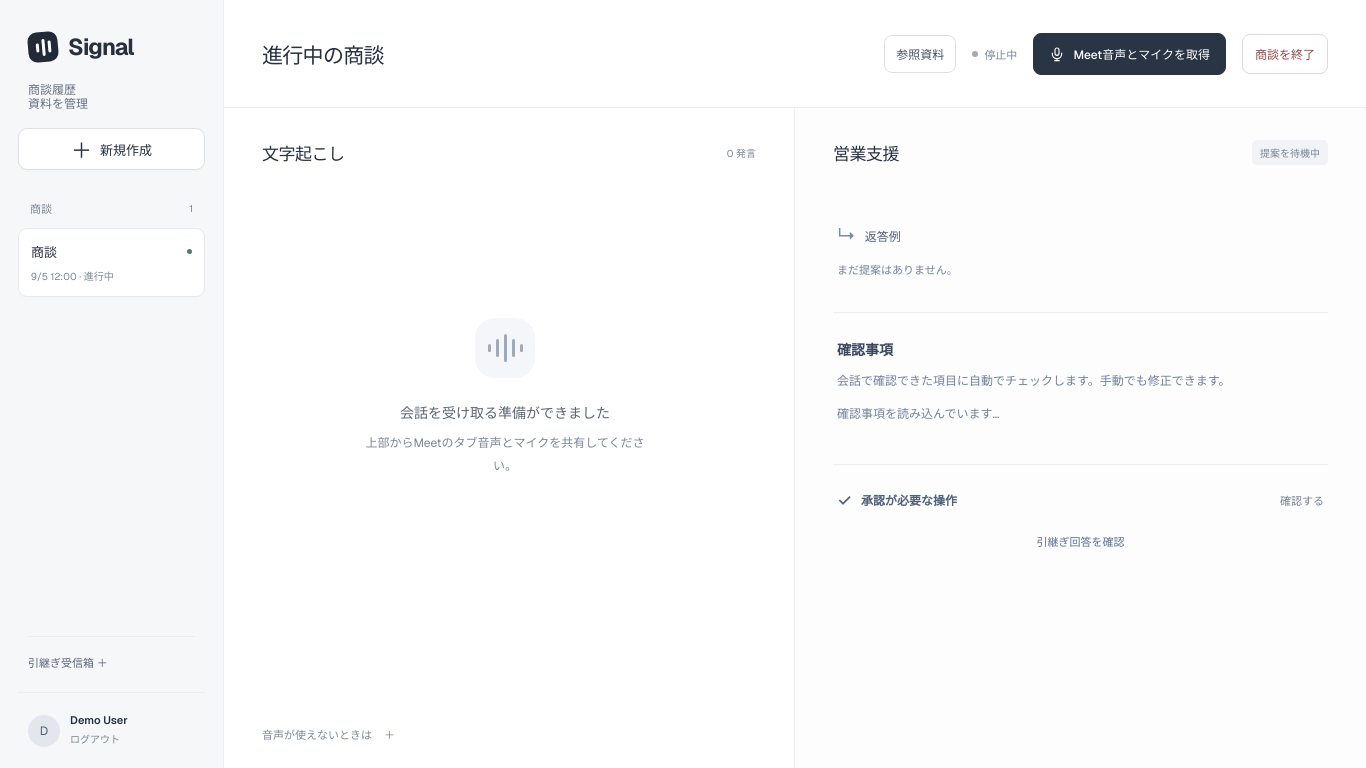
Test: authentication page › refreshes the transcript after adding a customer message
The width and height of the screenshot is (1366, 768).
Check: the heading "会話を受け取る準備ができました" is shown, box [400,402,610,422]
Click the button "音声が使えないときは ＋": click(328, 734) [262,720,395,748]
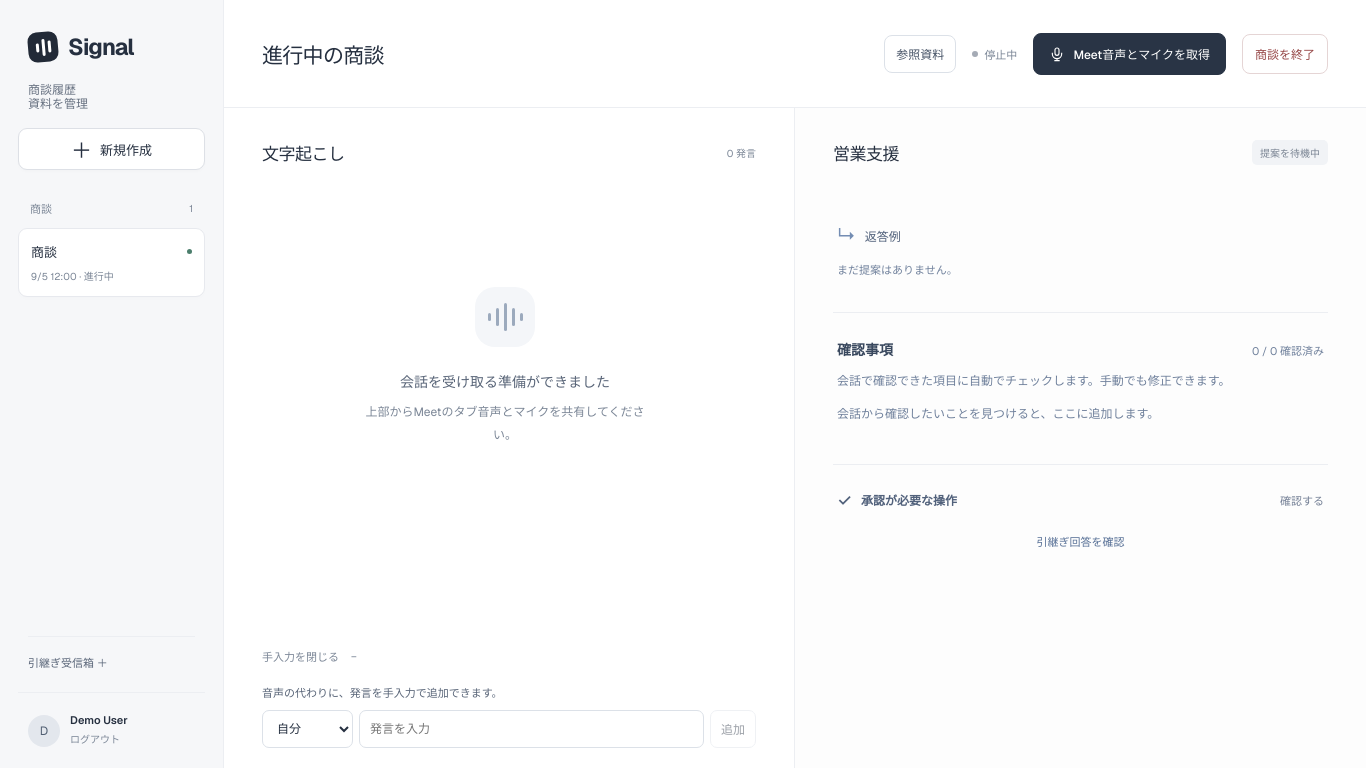
Select "通話相手" in the dropdown named "話者": (308, 729) [262,710,353,748]
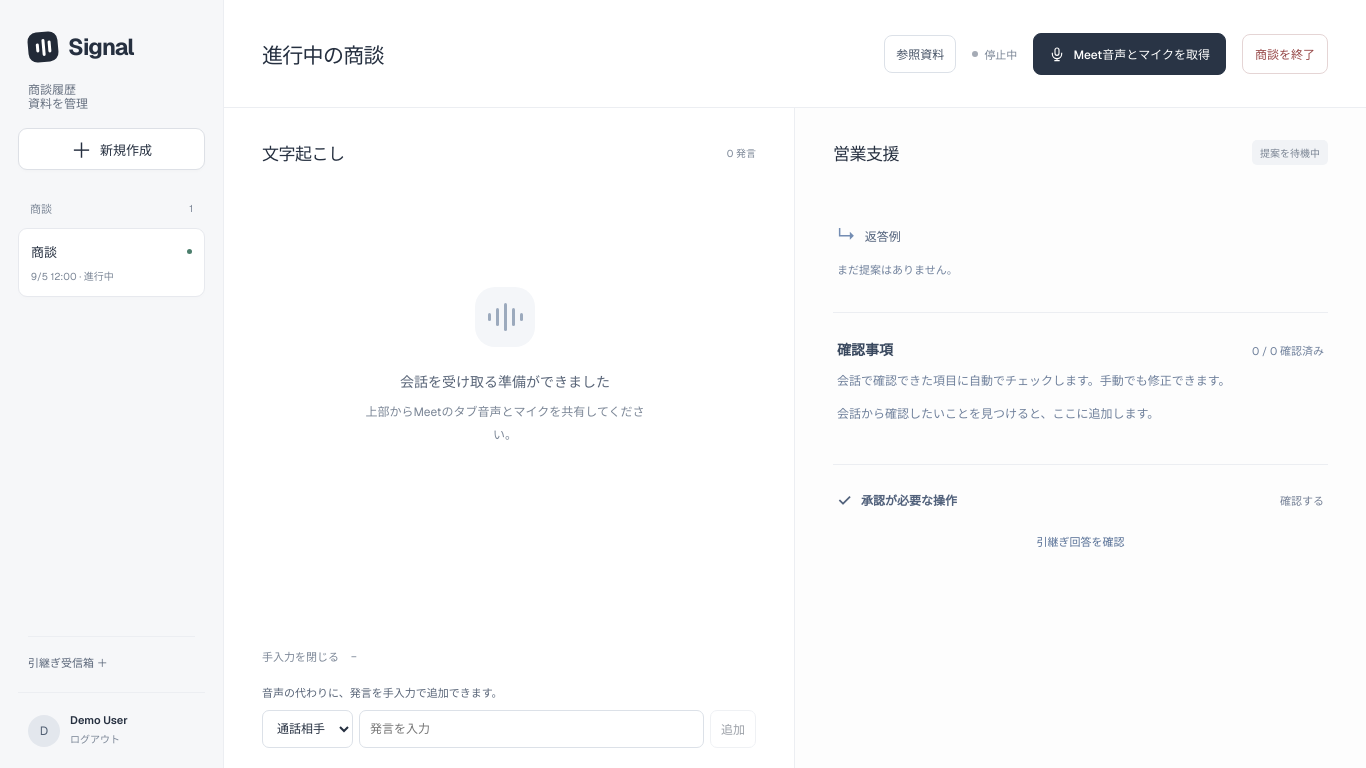
In the field labelled "発言": (532, 729) [359,710,704,748], type "顧客の発言"
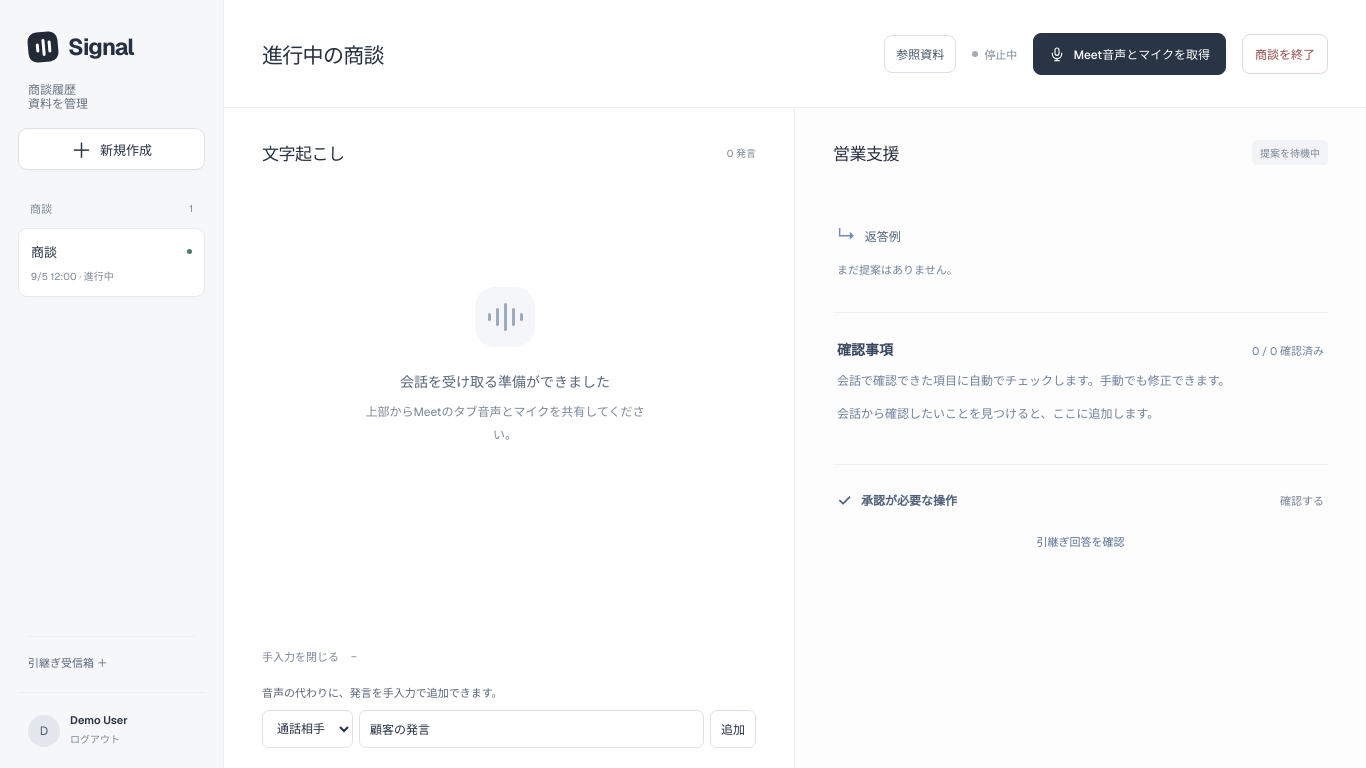
Click the button "追加": click(733, 729) [710,710,756,748]
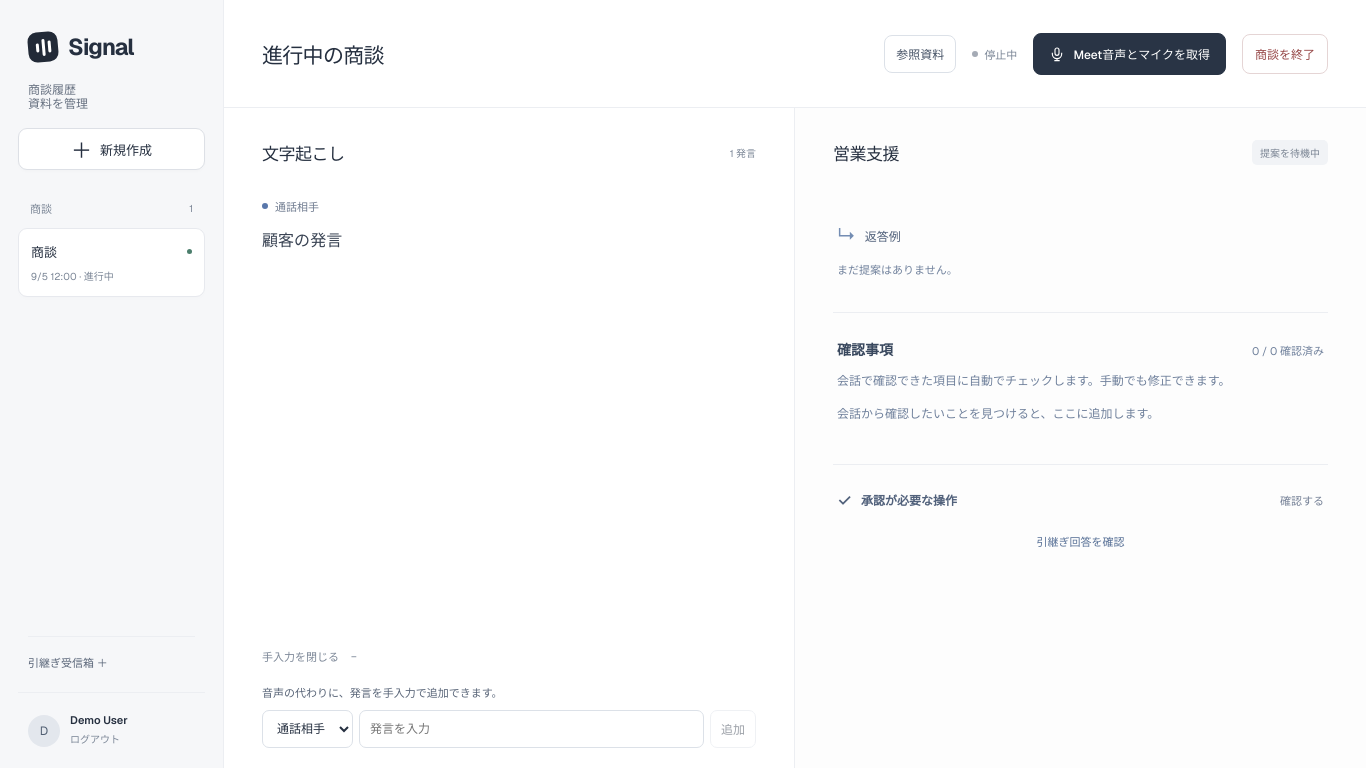
Check: the text "顧客の発言" is shown, box [262,230,342,251]
